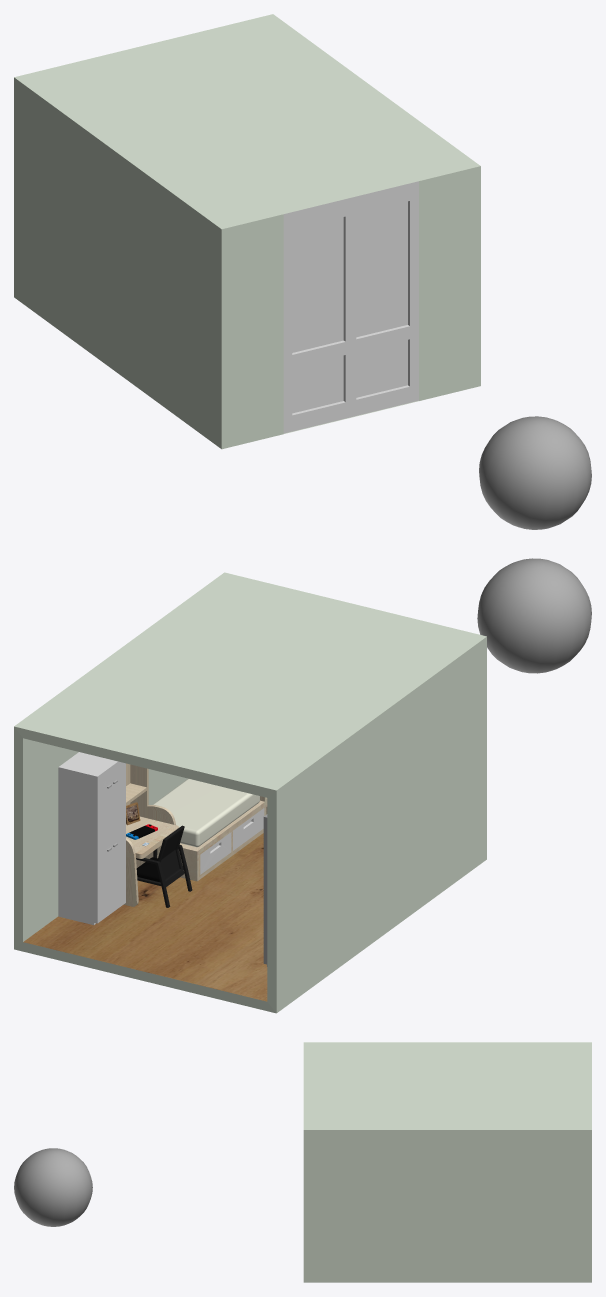
File: lisin0412_2.fbx
3 renders of one model, top to bottom at view 1: azimuth 30°, elevation 25°; view 2: azimuth 150°, elevation 25°; view 3: azimuth 270°, elevation 25°, orthographic. The views are drawn at different scales.
Parts seen in each view (by area): view 1: polySurface22, pCube25, pSphere1, pCube27, pCube26, pCube28, pCube29; view 2: polySurface22, polySurface1, pSphere1, pCube36, polySurface3, polySurface5, polySurface15, polySurface2; view 3: polySurface22, pSphere1.
Part boxes in pixels (x1,y1,x2,y2): polySurface22: [14, 14, 480, 449]; pCube25: [283, 181, 418, 433]; pSphere1: [479, 416, 591, 529]; pCube27: [292, 217, 343, 352]; pCube26: [356, 201, 407, 337]; pCube28: [292, 355, 343, 413]; pCube29: [356, 340, 407, 397]; polySurface22: [14, 572, 486, 1013]; polySurface1: [58, 752, 125, 925]; pSphere1: [477, 558, 591, 673]; pCube36: [153, 778, 259, 847]; polySurface3: [124, 763, 178, 906]; polySurface5: [179, 796, 267, 881]; polySurface15: [157, 825, 184, 886]; polySurface2: [263, 814, 267, 966]; polySurface22: [303, 1042, 591, 1282]; pSphere1: [14, 1148, 92, 1226].
Bounding box in the file's own units: 34.19 × 27.74 × 95.18.
20 materials, 6 textured.
